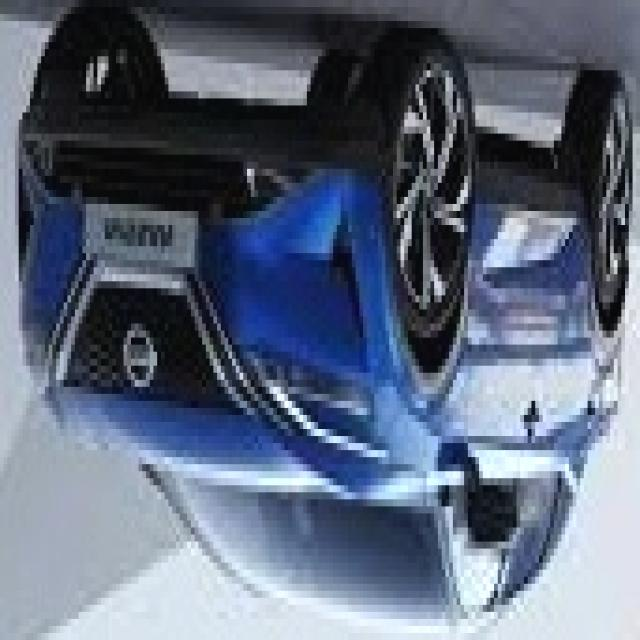blue: (11, 0, 640, 626)
